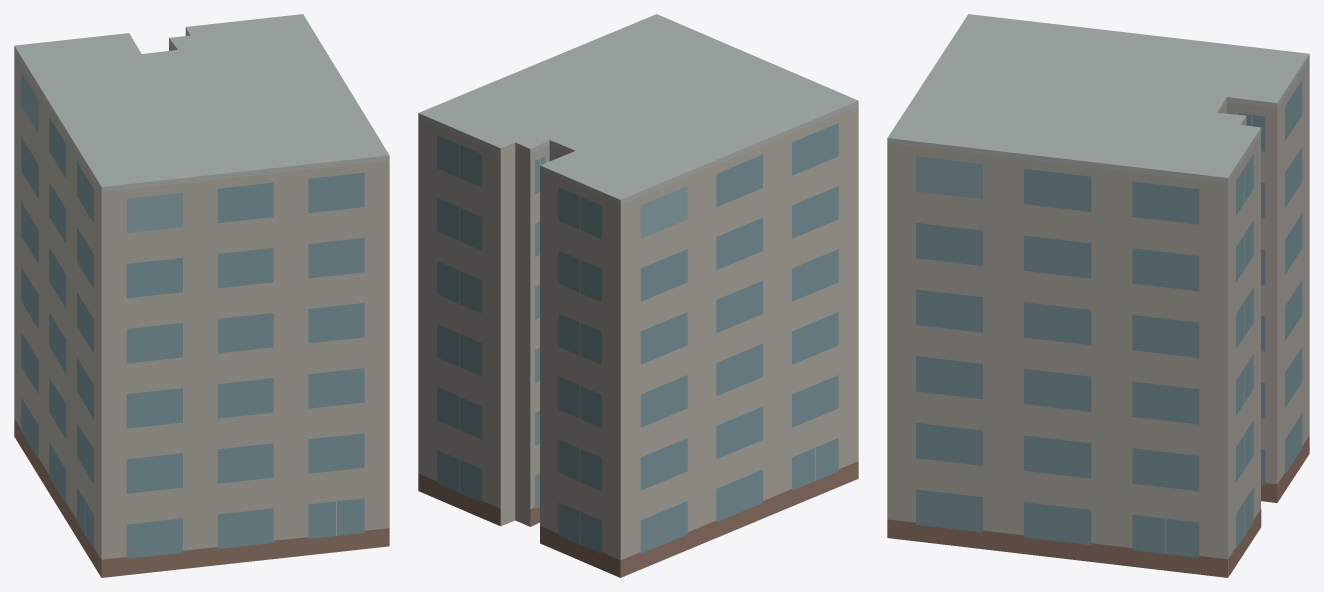
Rendered from survey-upis-32554078.glb.
The picture shows the model from 3 angles, left to right: view 1: azimuth 30°, elevation 25°; view 2: azimuth 150°, elevation 25°; view 3: azimuth 270°, elevation 25°; orthographic projection. The views are drawn at different scales.
Parts seen in each view (by area): view 1: survey-upis-32554078.tmp; view 2: survey-upis-32554078.tmp; view 3: survey-upis-32554078.tmp.
Boxes of the visible parts, x1,y1,x2,y2 form: survey-upis-32554078.tmp: (14, 14, 389, 577); survey-upis-32554078.tmp: (418, 14, 858, 577); survey-upis-32554078.tmp: (887, 14, 1309, 577).
Size of the model in its own units: 16.28 by 18.5 by 17.72.
